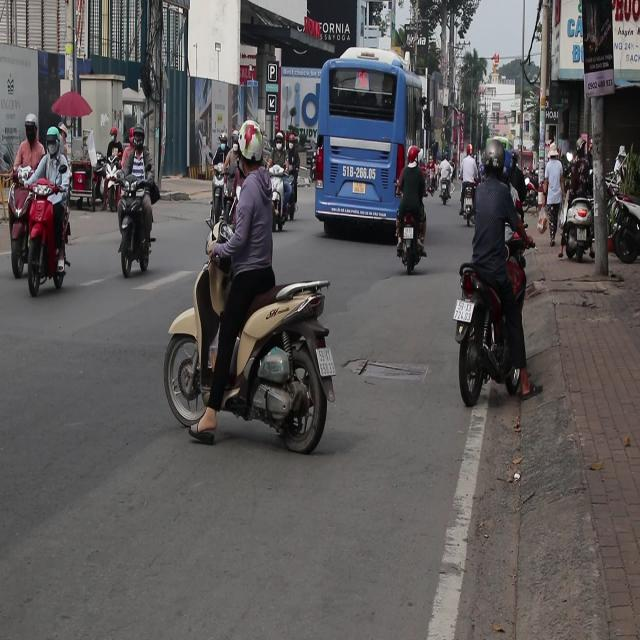bus: (315, 49, 425, 244)
motorbike: (170, 250, 339, 470), (451, 260, 578, 448), (8, 165, 74, 295), (116, 178, 156, 276), (198, 150, 238, 233), (394, 212, 426, 276), (270, 165, 298, 230), (102, 152, 121, 204), (459, 184, 473, 230), (438, 171, 448, 209)
